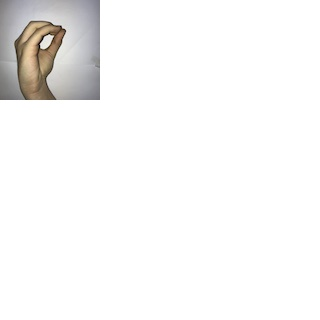rock: (10, 17, 68, 92)
